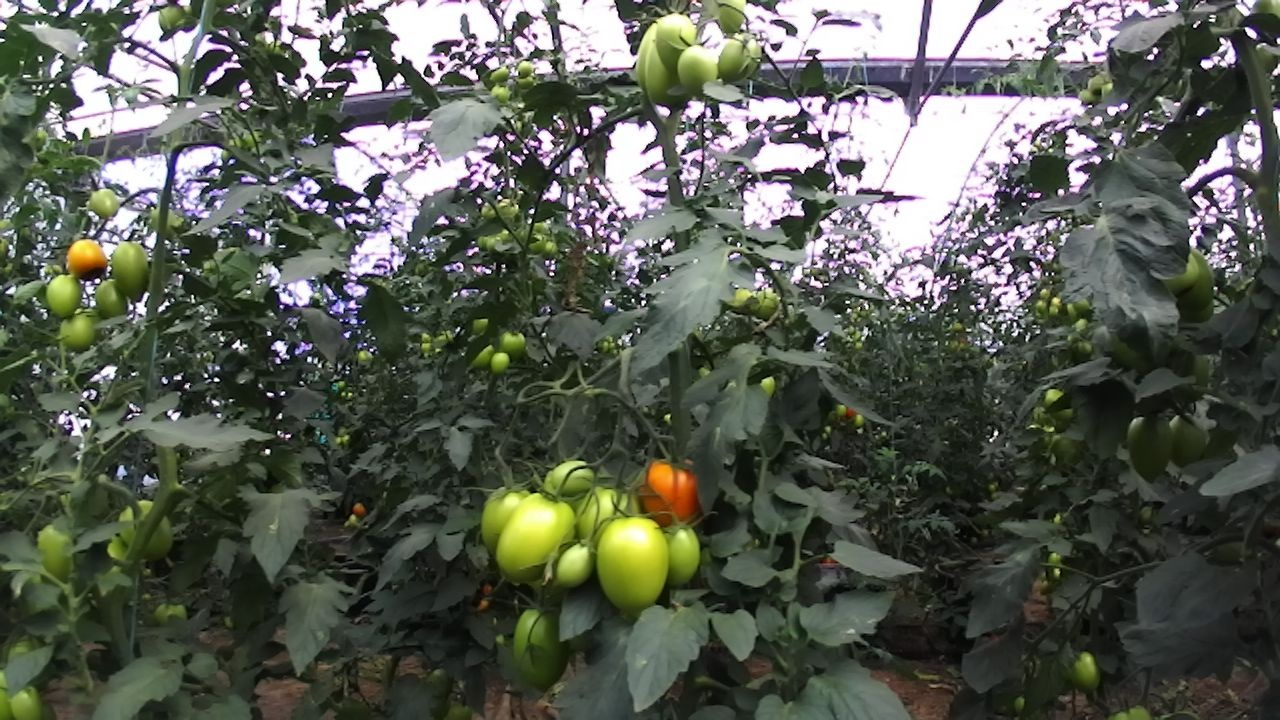tomato: (490, 479, 583, 583), (592, 509, 678, 618), (562, 471, 657, 563), (510, 602, 581, 696), (474, 473, 550, 555), (637, 448, 704, 536), (111, 493, 189, 564), (28, 514, 94, 592), (102, 229, 163, 309), (651, 514, 713, 591), (1122, 410, 1177, 487), (1169, 240, 1221, 318), (643, 32, 686, 110), (1164, 404, 1210, 475), (673, 39, 725, 99), (653, 9, 699, 75), (59, 232, 114, 284), (38, 267, 89, 323), (715, 28, 764, 86), (551, 536, 605, 588), (1064, 640, 1112, 698), (88, 276, 137, 328), (545, 452, 599, 498), (54, 308, 103, 354), (85, 180, 125, 225), (495, 323, 533, 360), (153, 1, 187, 39), (486, 79, 514, 107), (488, 347, 511, 379), (514, 54, 537, 84), (487, 62, 514, 87)
